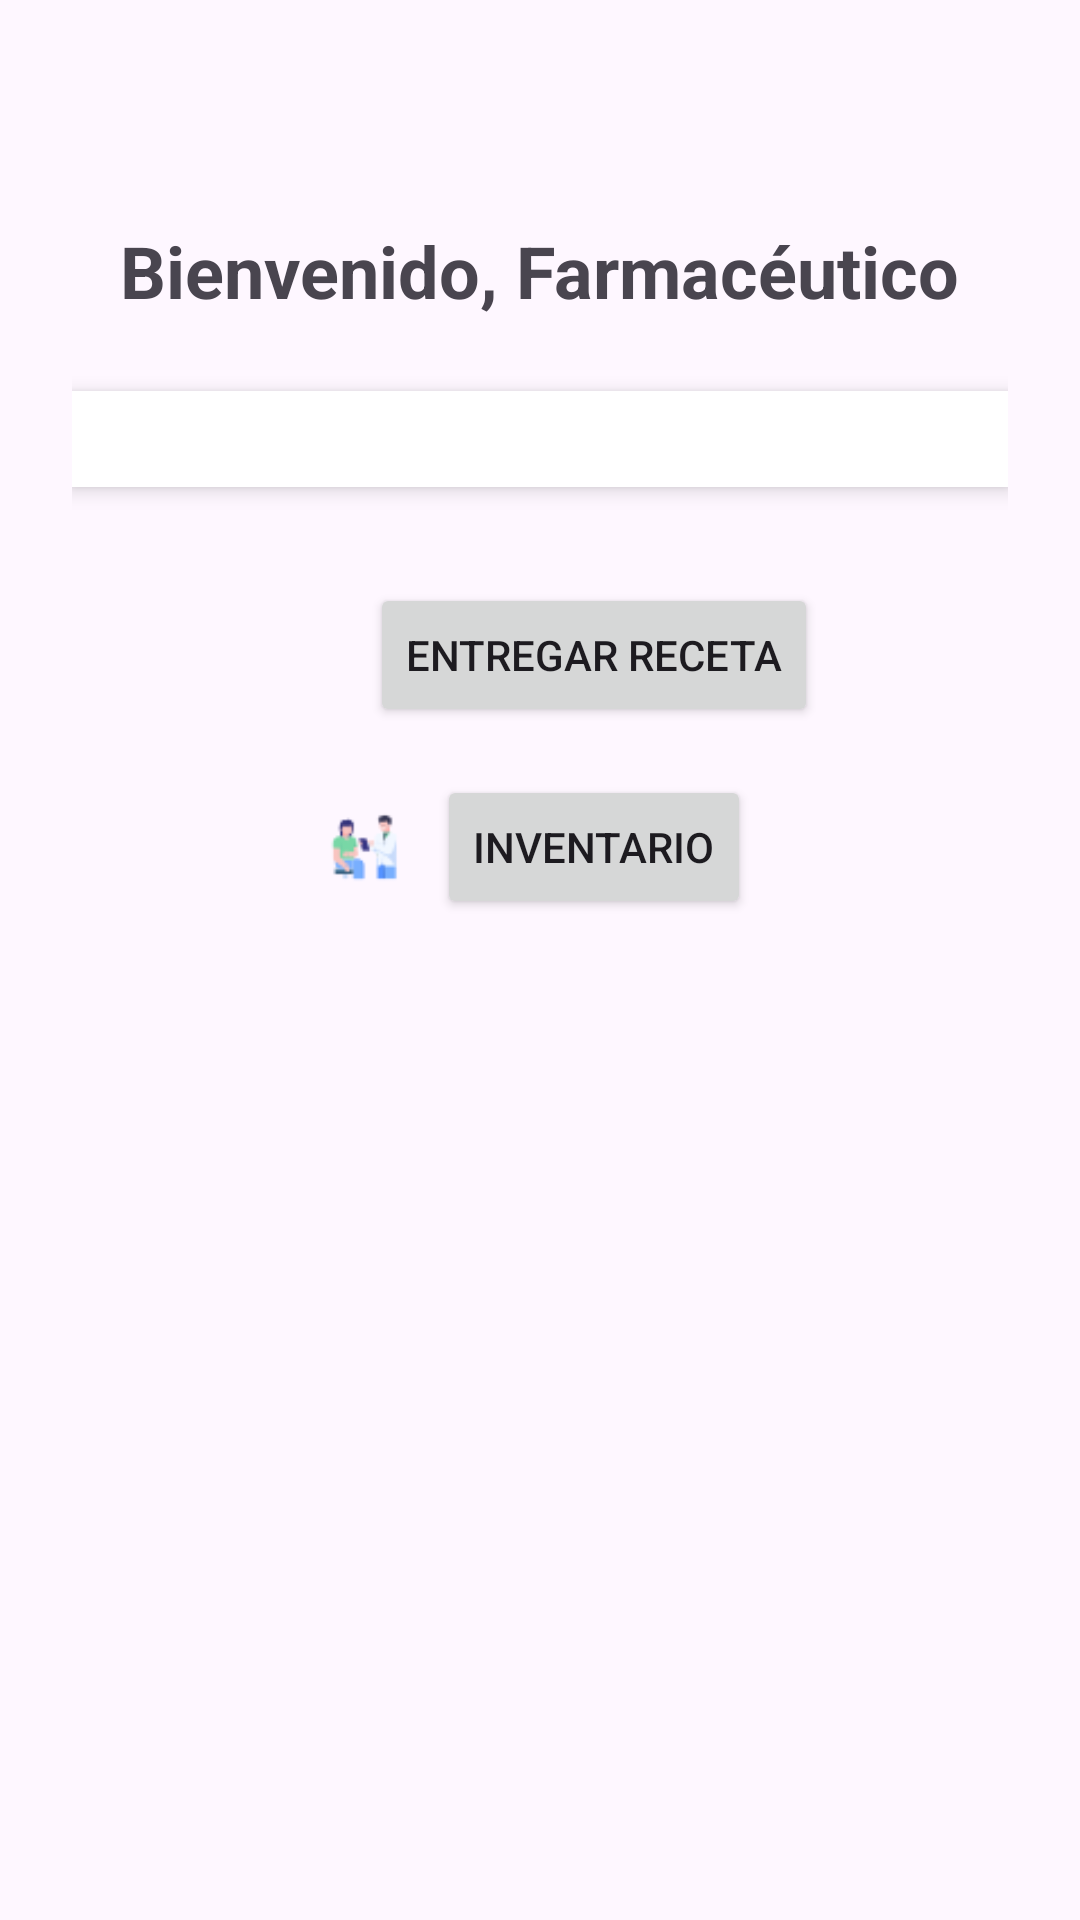

Locate icon controls on the screen. Image size 1080w x 1920h, boxes as {"left": x1, "top": y1, "right": x2, "bottom": y2}.
prescription view: {"left": 332, "top": 815, "right": 397, "bottom": 880}
